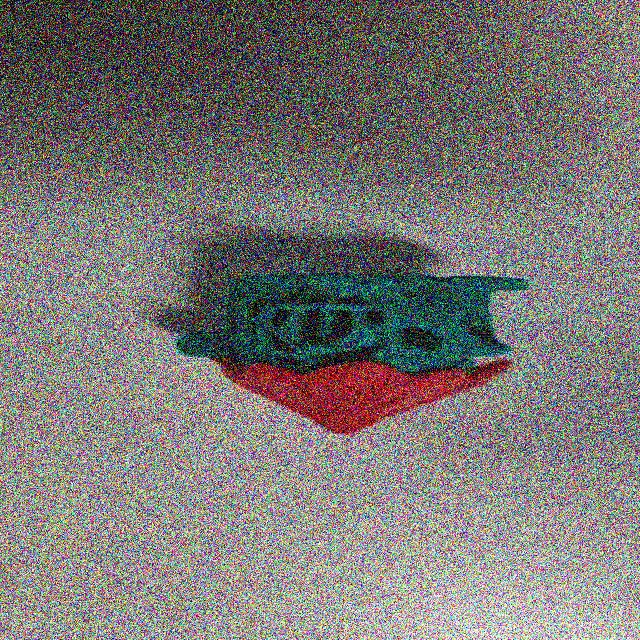House: (119, 231, 562, 449)
